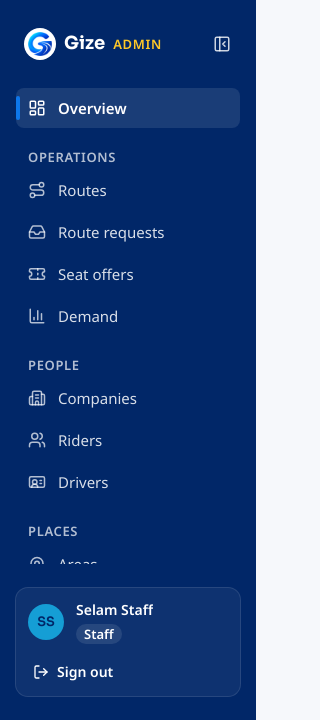
PortalShell: collapsing the sidebar › names each icon on hover and on keyboard focus, once collapsed only
This screenshot has width=320, height=720.
Hover over the link "Riders" at (65, 440), box top-left (28, 430), bottom-right (102, 450)
Click the button named "Collapse sidebar" at (222, 44), box top-left (204, 26), bottom-right (240, 62)
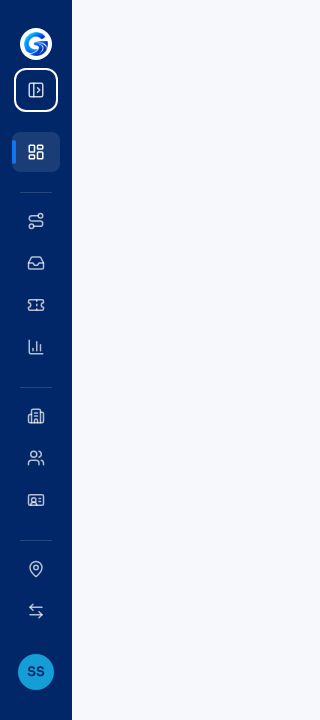
Hover over the 8th link named "Riders" at (36, 458), box top-left (12, 438), bottom-right (60, 478)
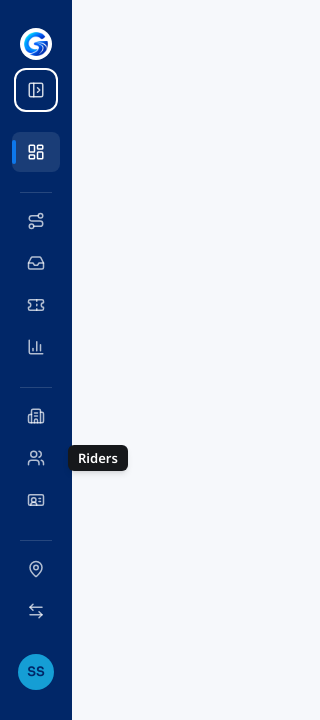
Result: the tooltip "Riders" is shown at top-left (68, 445), bottom-right (128, 471)
Move the pointer off the 8th link named "Riders", box top-left (12, 438), bottom-right (60, 478)
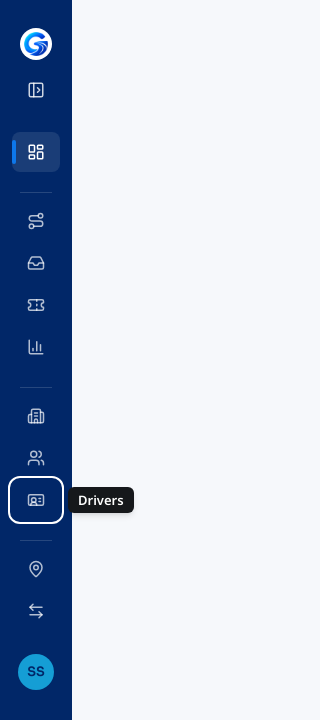
Result: the tooltip "Drivers" is shown at top-left (68, 487), bottom-right (134, 513)
